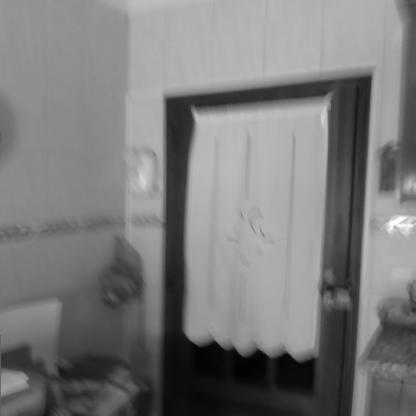closed: (152, 60, 384, 416)
